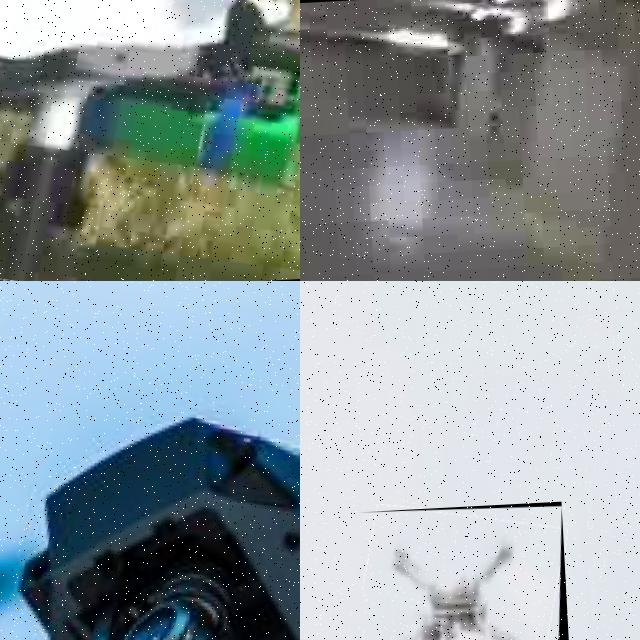drone: (0, 281, 300, 640), (0, 0, 300, 281), (358, 502, 570, 640)
